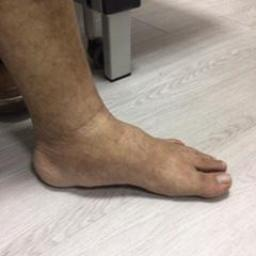Medial View -Left Foot-: (13, 90, 243, 223)
